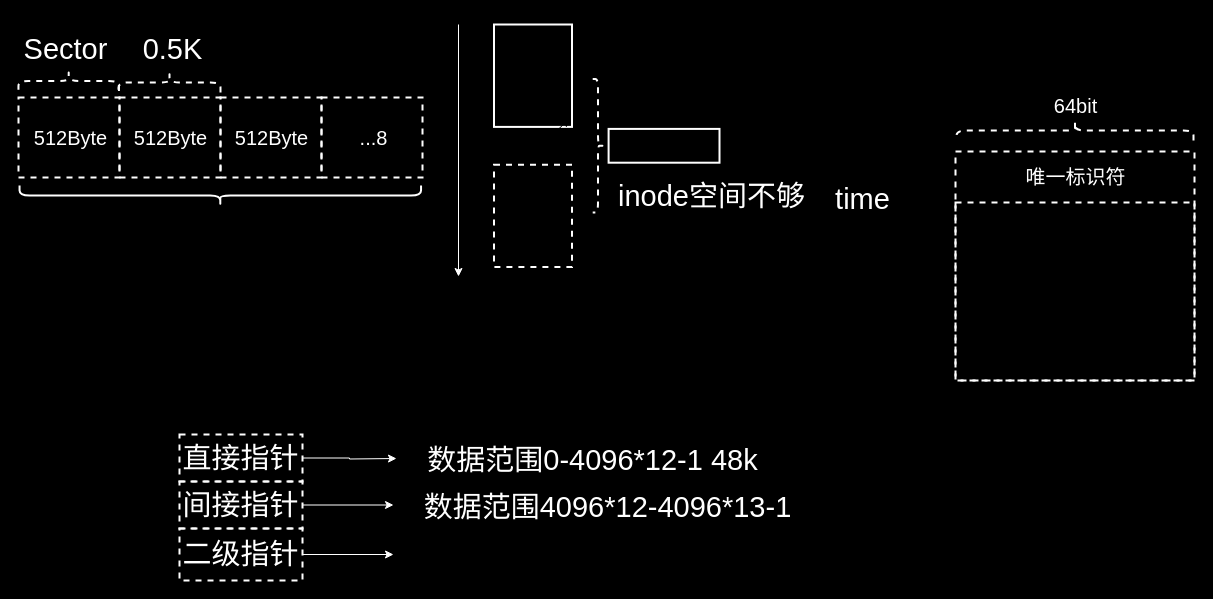
This 1213x599 diagram has some shape labels left out. Each missing label, with the centre of its shape:
4GB: [532,75]
4K: [220,195]
4KB: [1074,291]
8GB: [532,215]
8MB: [663,145]
